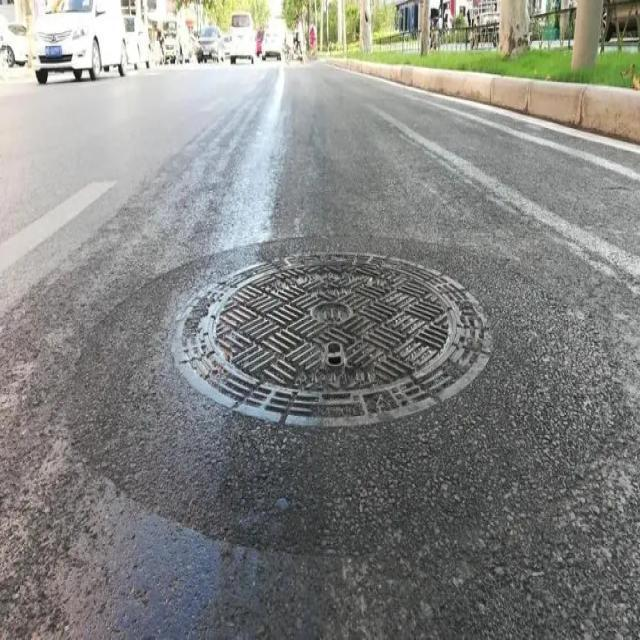manhole: (172, 254, 490, 426)
